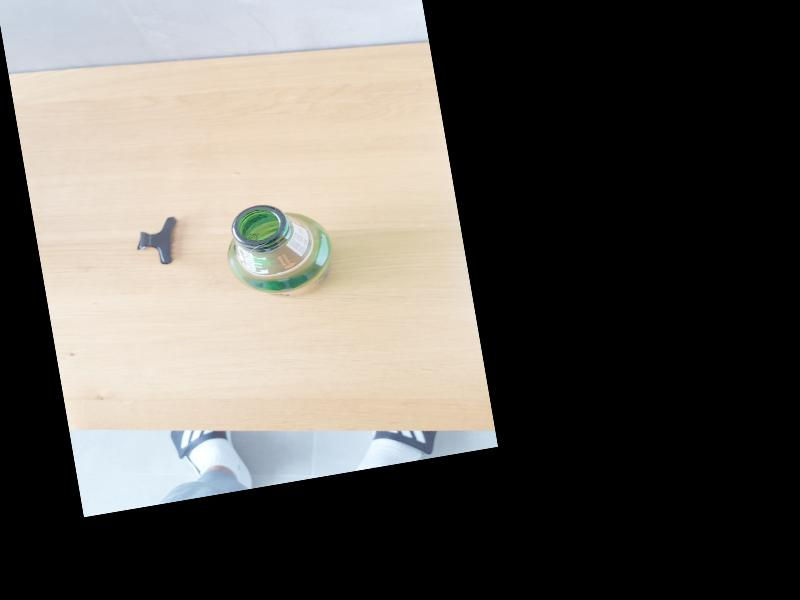Beer: (217, 194, 338, 309)
